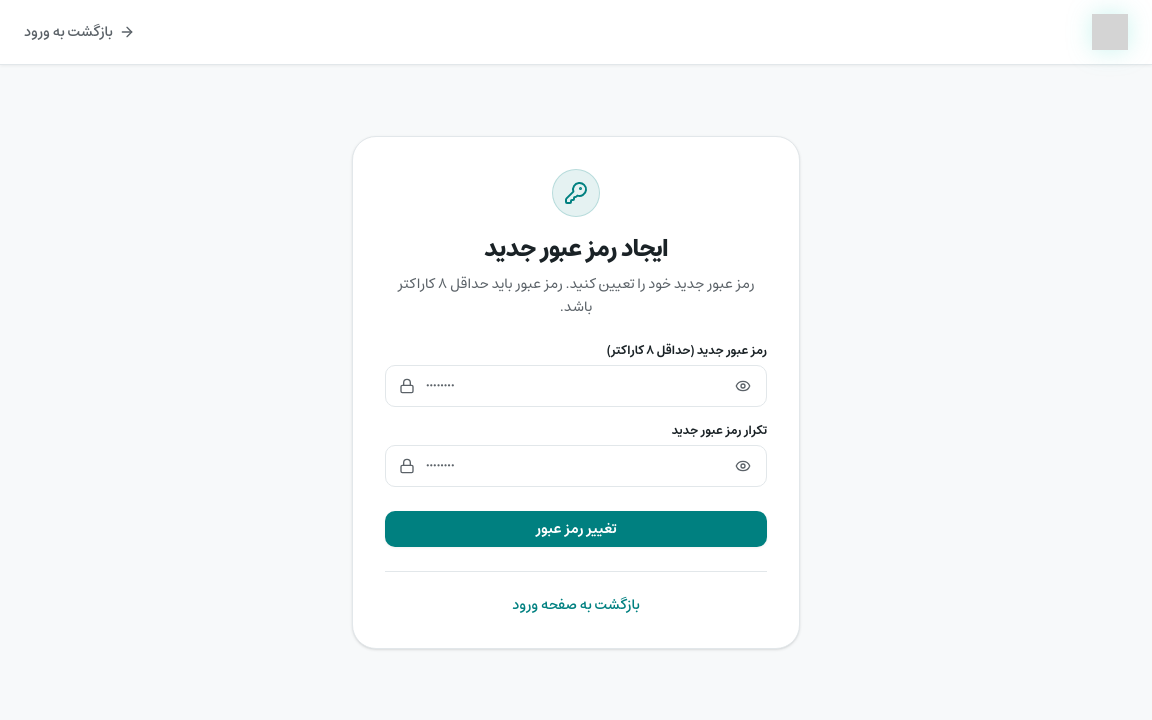
Auth UI - Forgot Password & Reset Password Flow › ResetPasswordPage › validates password length (min 8 chars) and password confirmation match
The width and height of the screenshot is (1152, 720).
Type "pass1" into the password field with id "new-password" at x=576, y=386, box [385,365,767,407]
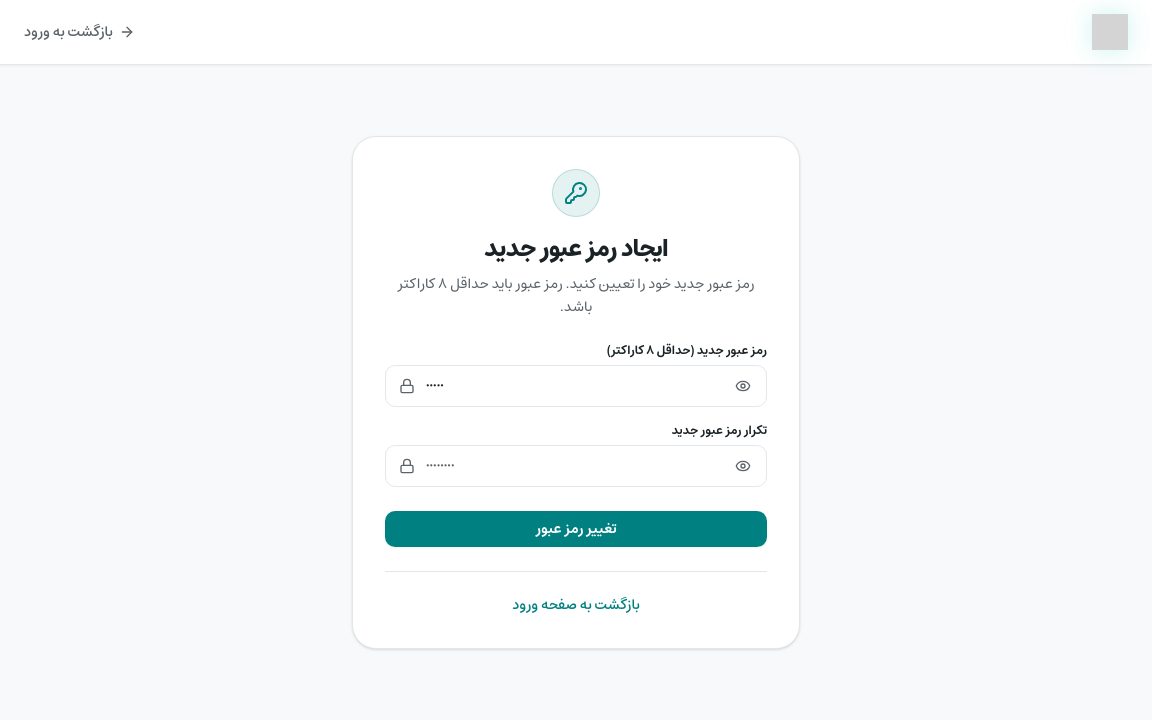
Type "pass1" into the password field with id "confirm-new-password" at x=576, y=466, box [385,445,767,487]
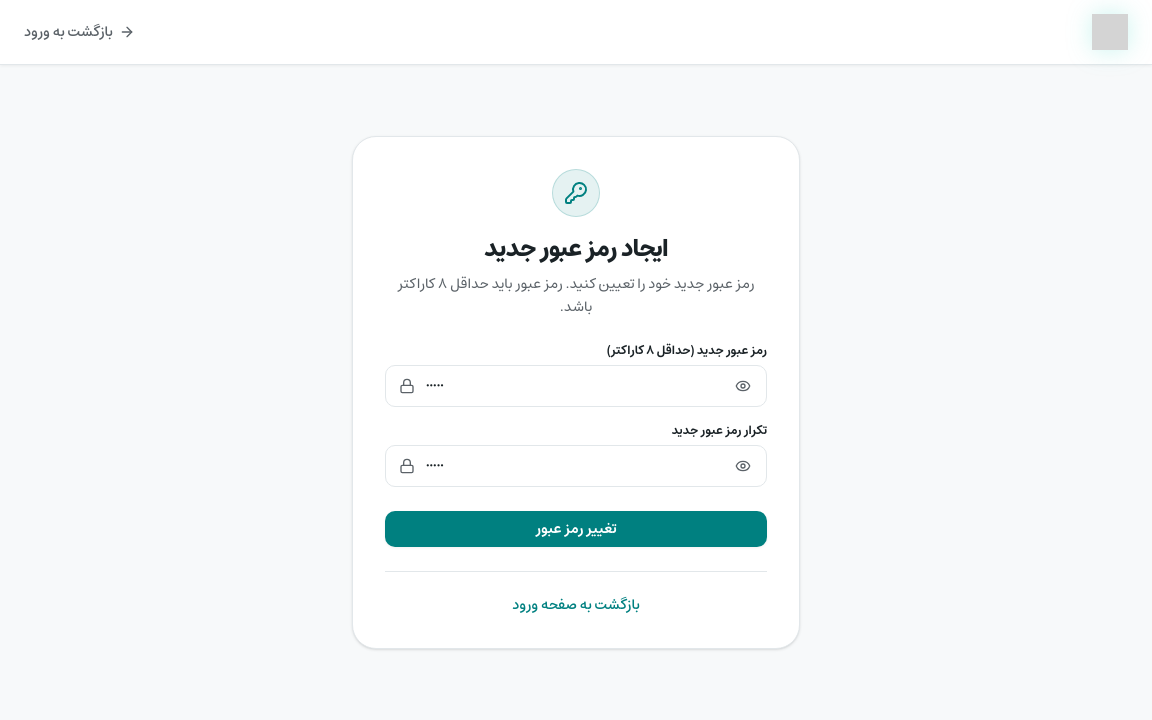
Submit the form, box [385,343,767,547]
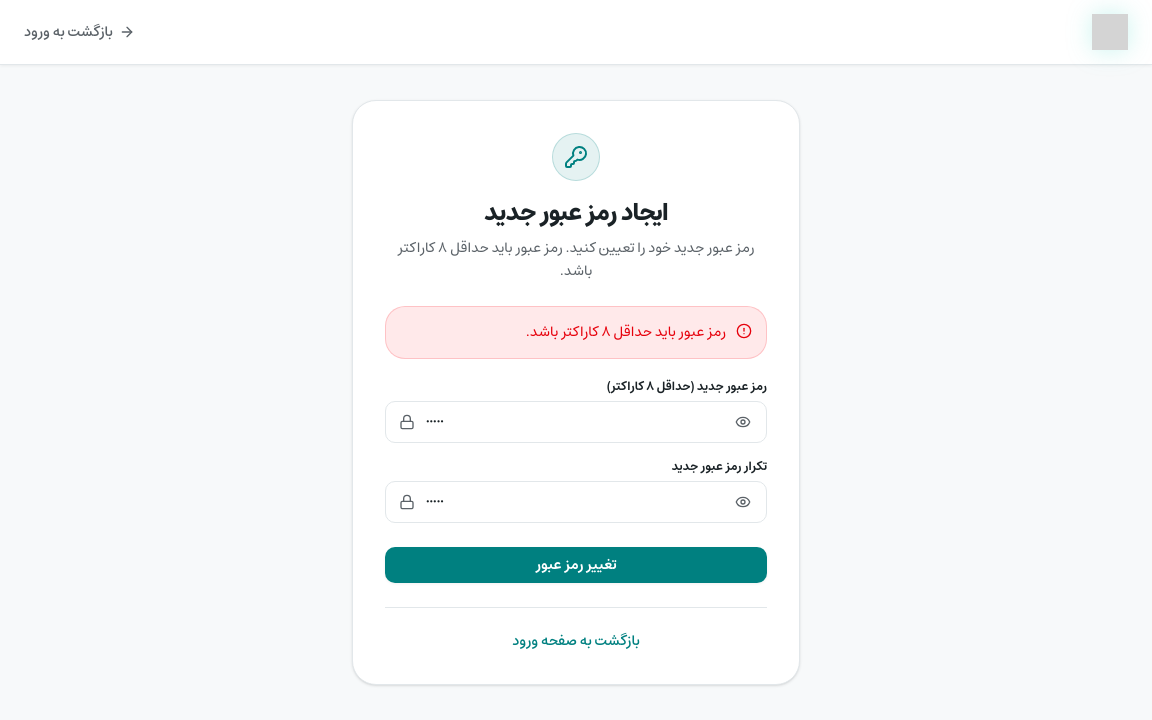
Expected: the text "رمز عبور باید حداقل ۸ کاراکتر باشد." is shown, [526,321,726,344]
Note: Mismatched passwords
Type "new-secret-password-123" into the password field with id "new-password" at x=576, y=422, box [385,401,767,443]
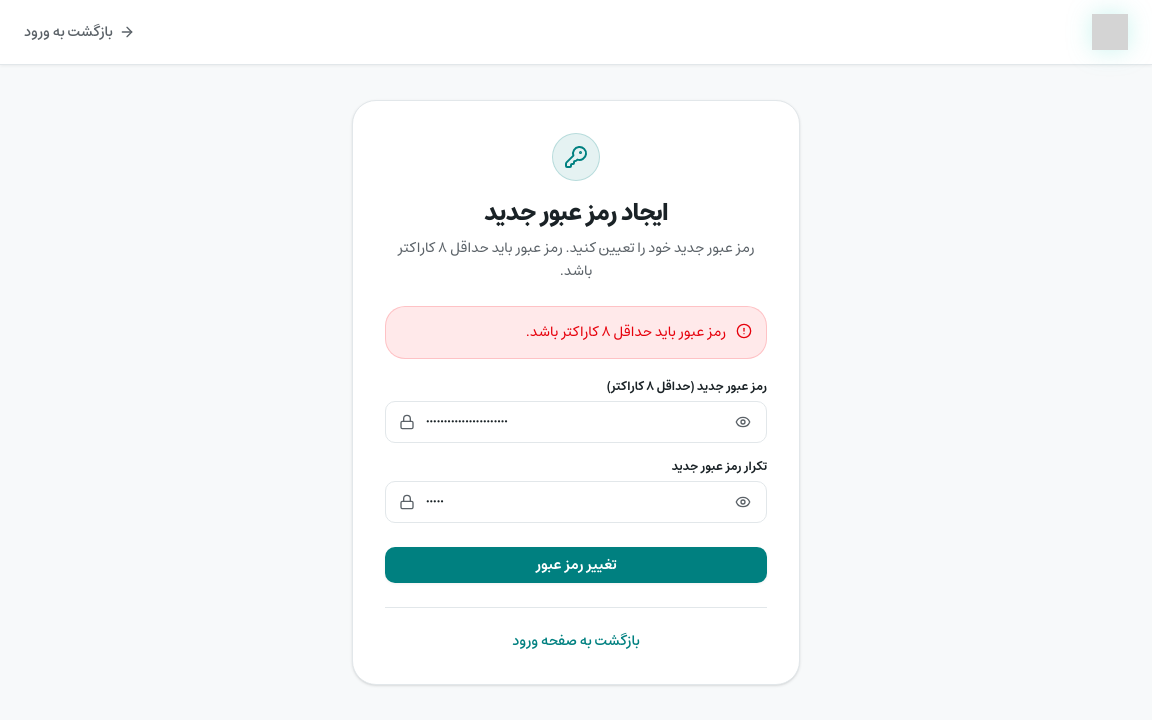
Type "different-password-123" into the password field with id "confirm-new-password" at x=576, y=502, box [385,481,767,523]
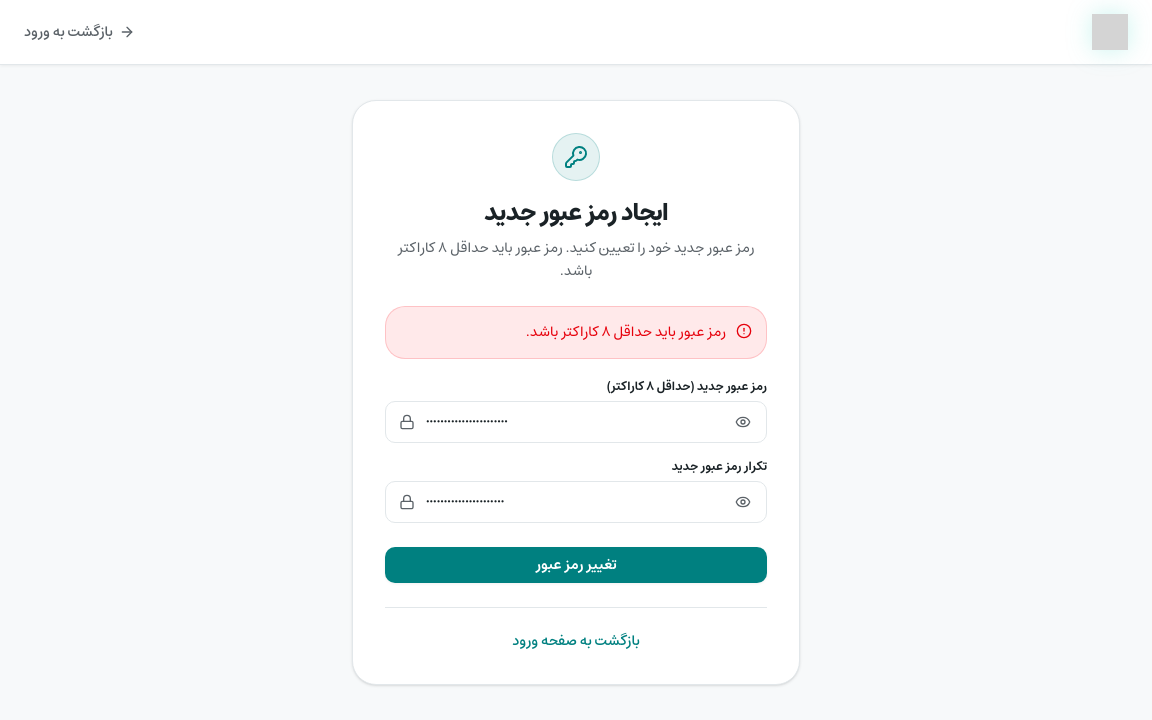
Submit the form, box [385,379,767,583]
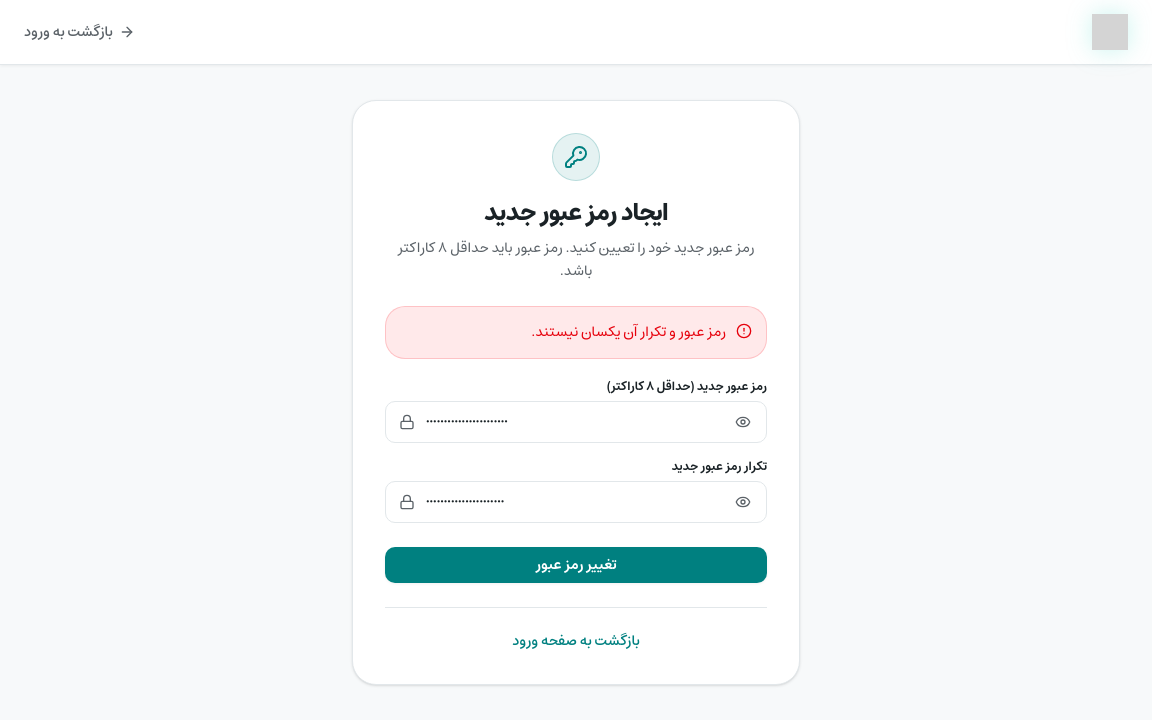
Expected: the text "رمز عبور و تکرار آن یکسان نیستند." is shown, [531,321,726,344]
